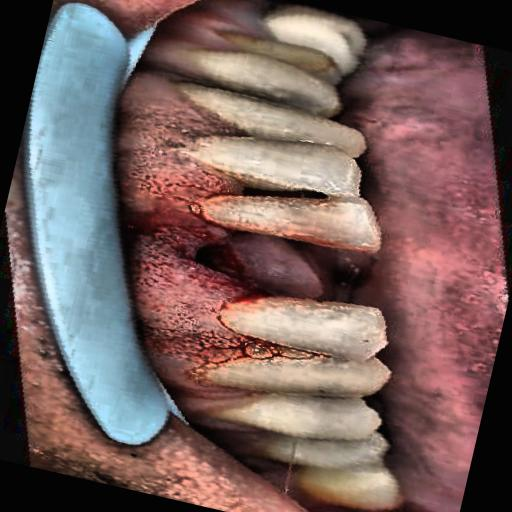Gingivitis: (72, 138, 290, 439)
